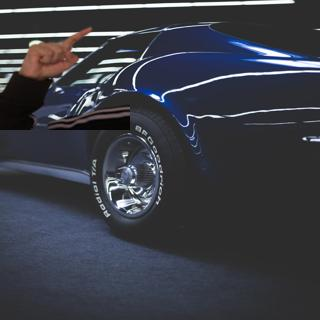WHY: (17, 23, 95, 81)
